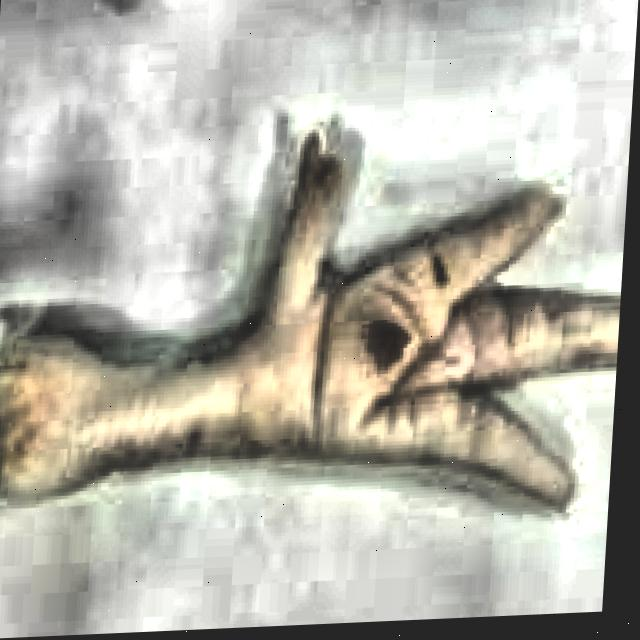Bumble foot: (0, 118, 633, 546)
